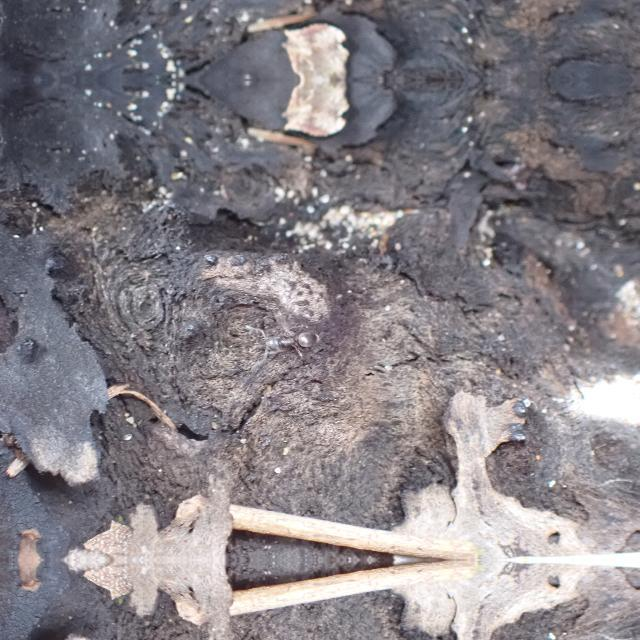Tapinoma: (260, 326, 322, 356)
